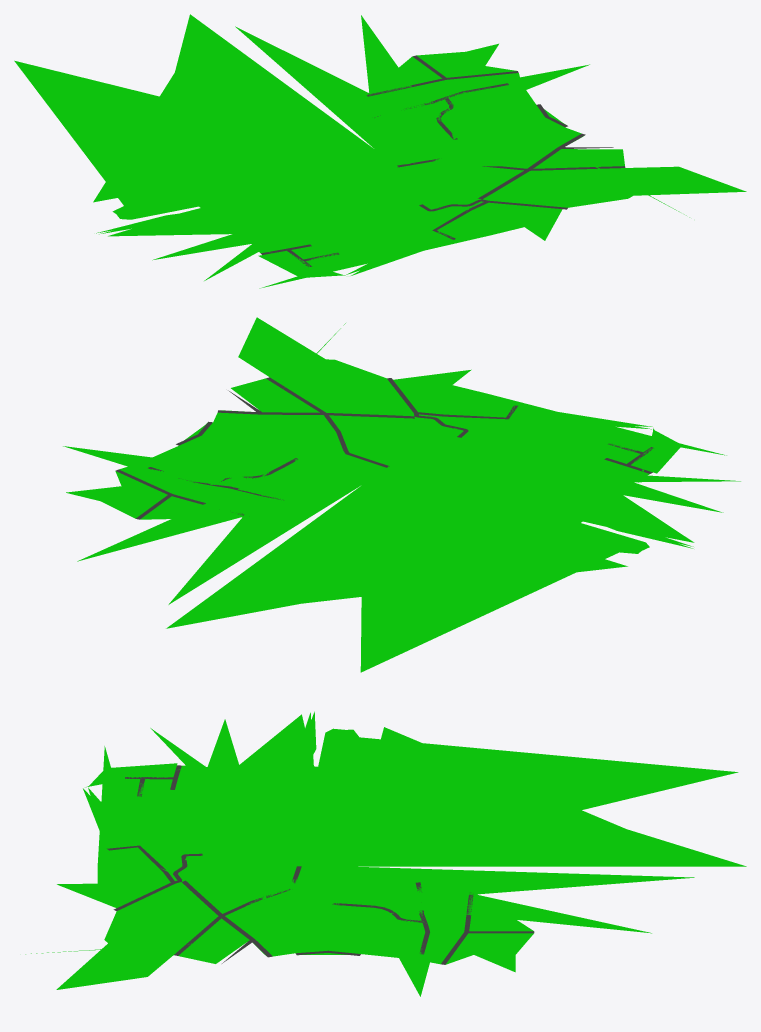
The picture shows the model from 3 angles, top to bottom: view 1: azimuth 30°, elevation 25°; view 2: azimuth 150°, elevation 25°; view 3: azimuth 270°, elevation 25°; orthographic projection. The views are drawn at different scales.
Bounding box in the file's own units: 537 × 0 × 526.
